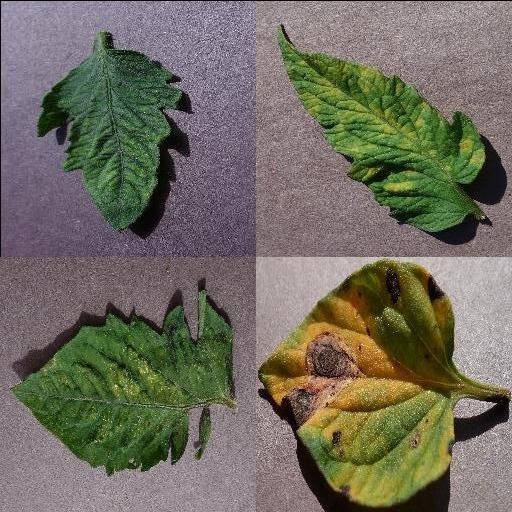Early Blight: (257, 260, 457, 508)
Leaf Mold: (275, 28, 487, 229)
Mosaic Virus: (37, 46, 180, 231)
Spider Mites: (7, 287, 237, 475)
